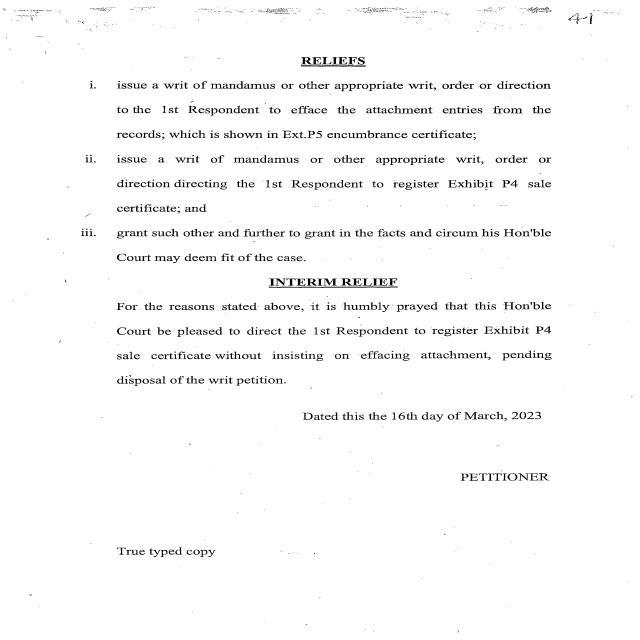page-number: (443, 0, 640, 78)
